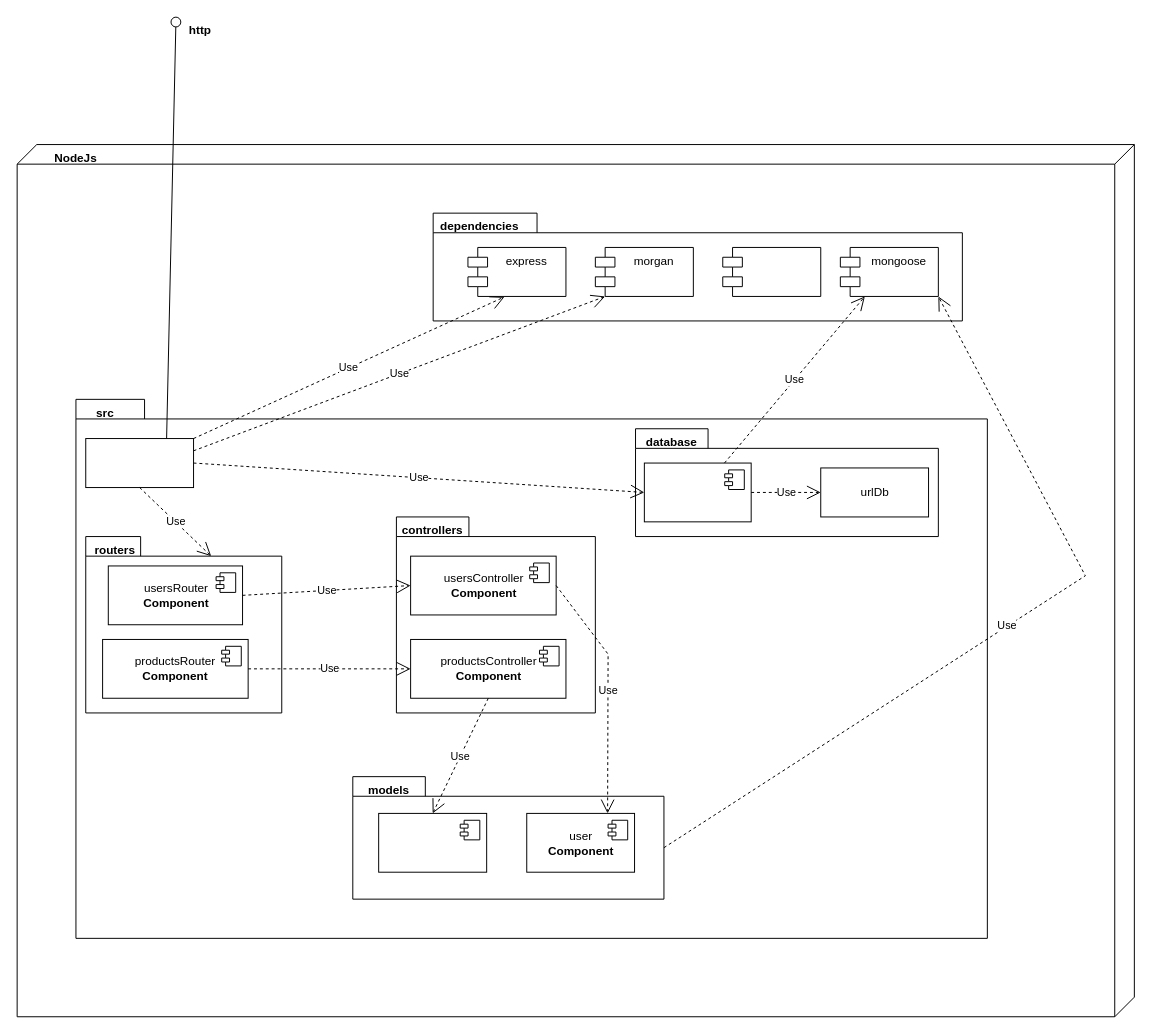
This 1152x1034 diagram has some shape labels left out. The centre of each missing label's shape, as x and y in pixels:
connDb Component: the point at 697,492
index.js: the point at 139,463
nodemon: the point at 771,271
product Component: the point at 432,842
